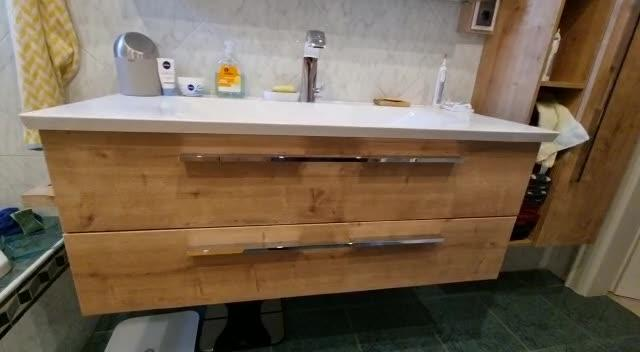cabinet_door: (54, 133, 523, 219), (60, 219, 509, 294)
handle: (185, 232, 449, 264), (176, 146, 466, 172)
